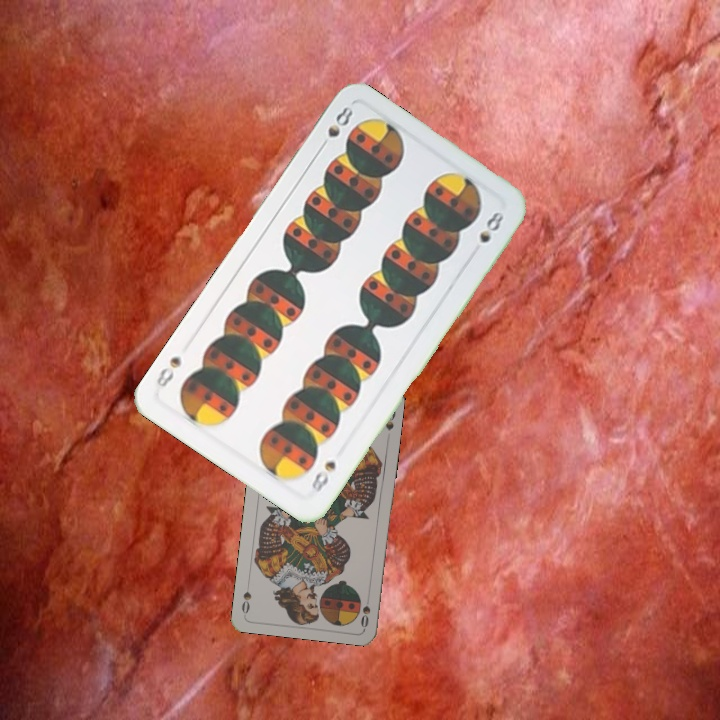S8: (314, 102, 356, 154), (307, 457, 339, 495)
SO: (356, 589, 373, 630)
